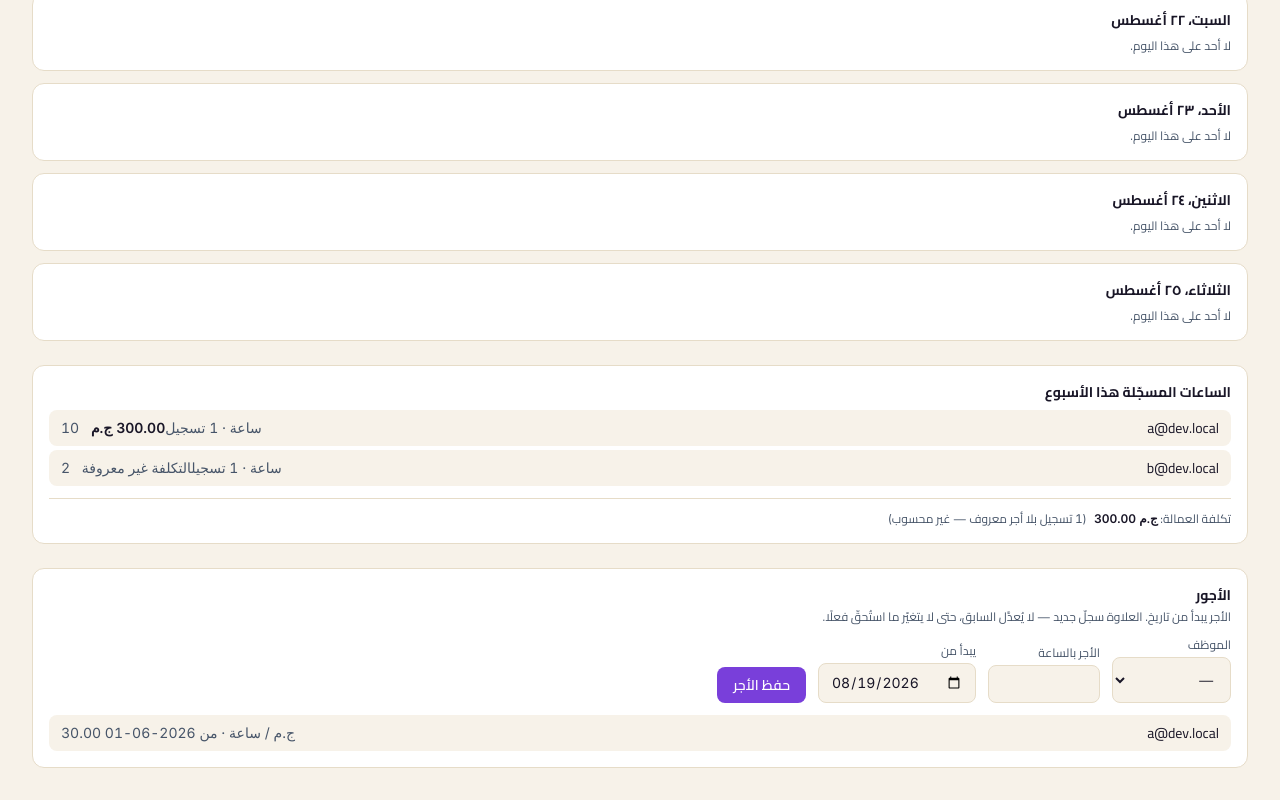
Test: setting a rate › refuses to send without a person chosen
(page scrolled)
Type "45" into the number field labelled "الأجر بالساعة" at coordinates (1044, 684), box [988,665,1100,703]
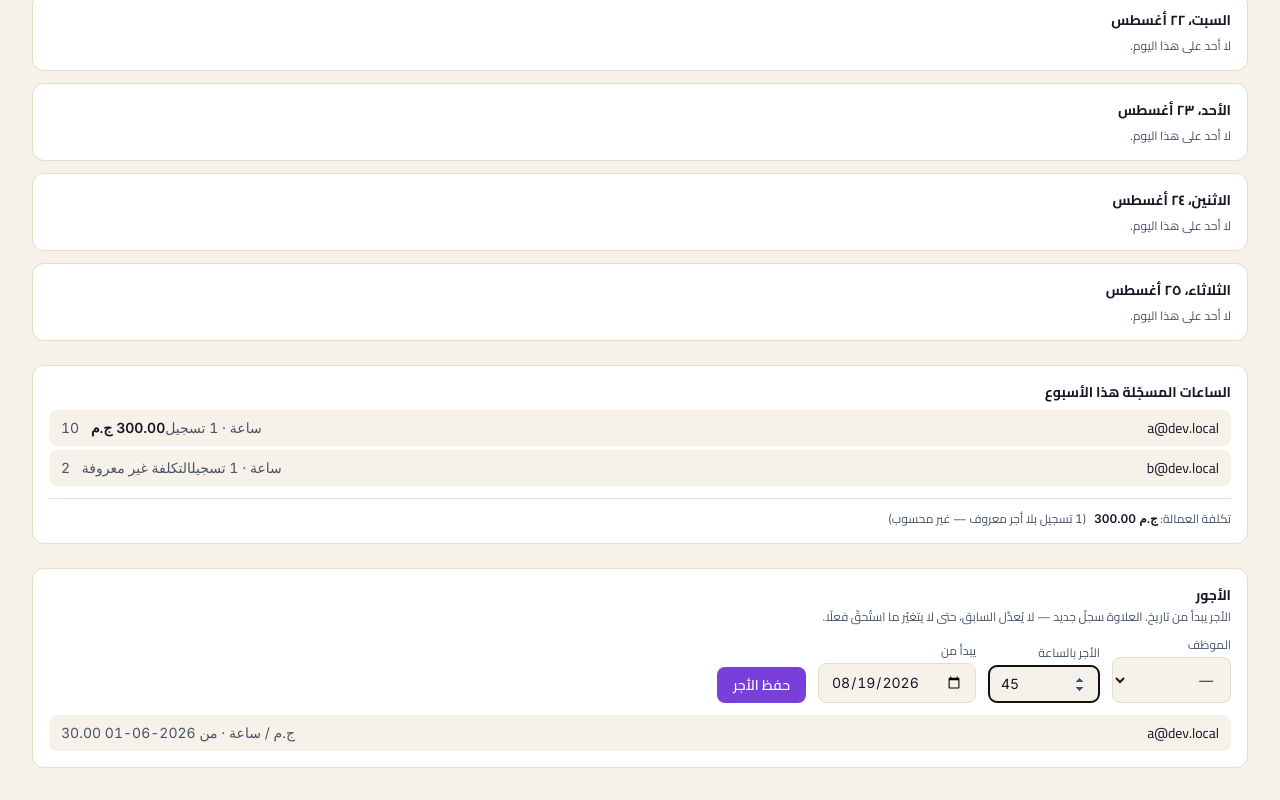
Click the button with test id "save-wage" at coordinates (762, 685), box [717,667,806,703]
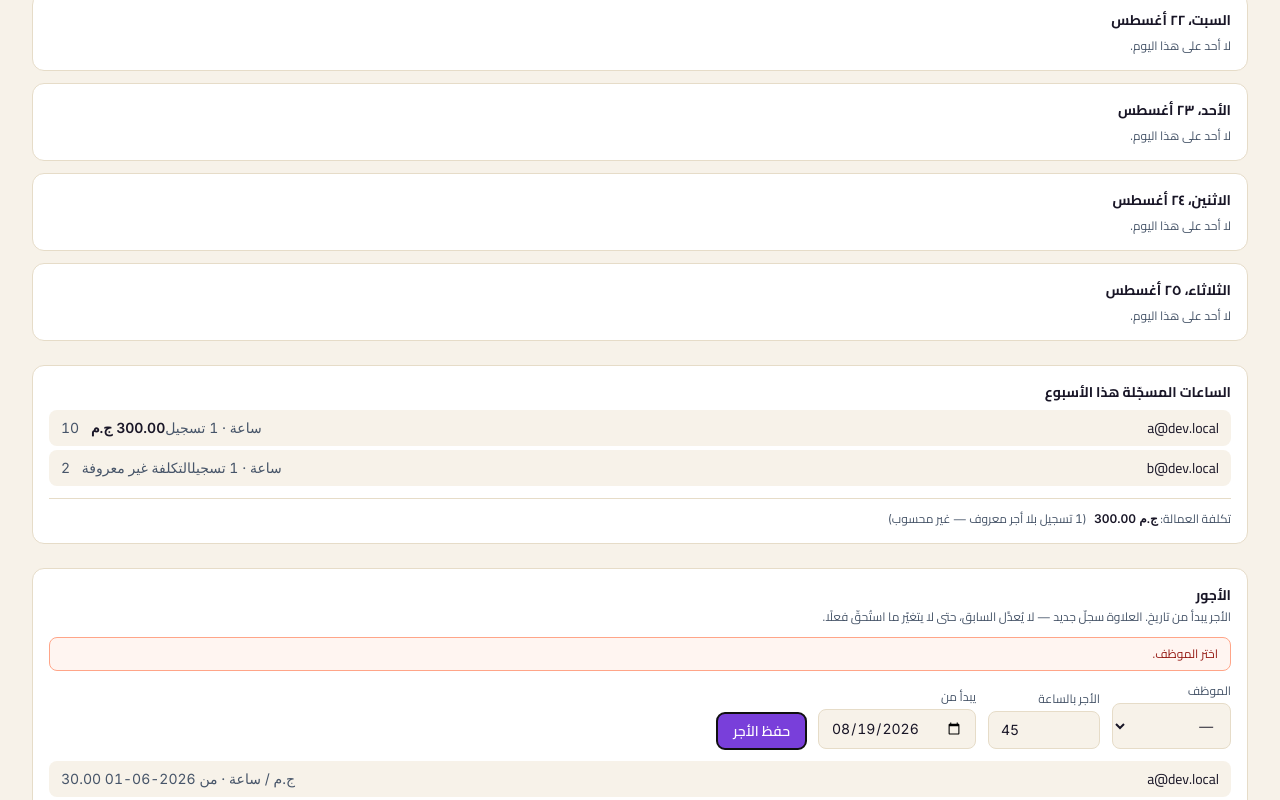
Now the text "اختر الموظف." is shown, box [49,637,1231,671]
